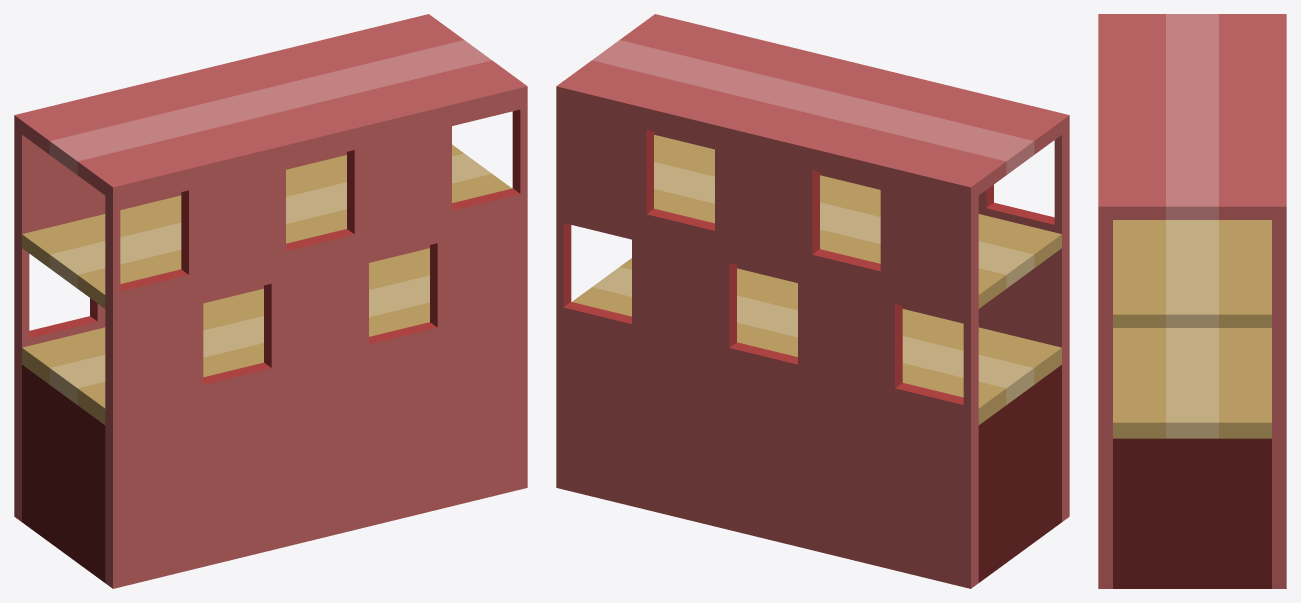
File: Bld_9.fbx
The picture shows the model from 3 angles, left to right: view 1: azimuth 30°, elevation 25°; view 2: azimuth 150°, elevation 25°; view 3: azimuth 270°, elevation 25°; orthographic projection. The views are drawn at different scales.
Visible parts, largest first — view 1: Cube.018; view 2: Cube.018; view 3: Cube.018.
Part boxes in pixels (bbox=[...]): Cube.018: bbox=[14, 14, 527, 588]; Cube.018: bbox=[556, 14, 1069, 588]; Cube.018: bbox=[1098, 14, 1286, 588].
Size of the model in its own units: 1507 by 1394 by 622.
